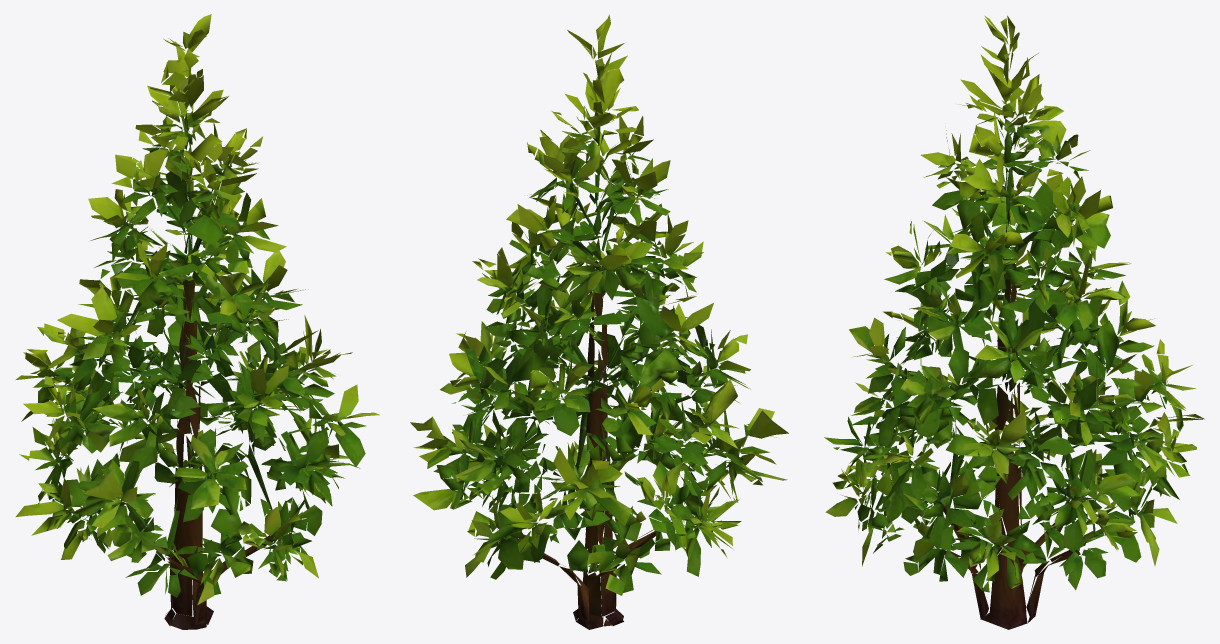
Rendered from bush-tall.glb.
3 views of the same model, side by side, from view 1: azimuth 30°, elevation 25°; view 2: azimuth 150°, elevation 25°; view 3: azimuth 270°, elevation 25° (orthographic).
Parts seen in each view (by area): view 1: tripo_node_3d530173-9b97-42ad-bf09-e0d203efed8e; view 2: tripo_node_3d530173-9b97-42ad-bf09-e0d203efed8e; view 3: tripo_node_3d530173-9b97-42ad-bf09-e0d203efed8e.
Boxes of the visible parts, box(x1,y1,x2,y2) form: tripo_node_3d530173-9b97-42ad-bf09-e0d203efed8e: box(15, 14, 379, 629); tripo_node_3d530173-9b97-42ad-bf09-e0d203efed8e: box(410, 14, 788, 629); tripo_node_3d530173-9b97-42ad-bf09-e0d203efed8e: box(824, 15, 1204, 629).
Bounding box in the file's own units: 0.5299 × 0.9776 × 0.5683.
1 material, 1 textured.
